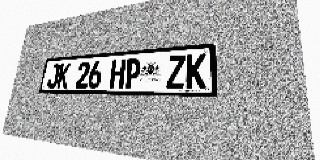2: (75, 62, 91, 88)
6: (87, 61, 103, 88)
H: (109, 59, 126, 88)
J: (46, 64, 60, 88)
K: (186, 53, 206, 89), (56, 63, 71, 88)
P: (124, 58, 141, 88)
Z: (166, 55, 186, 89)
